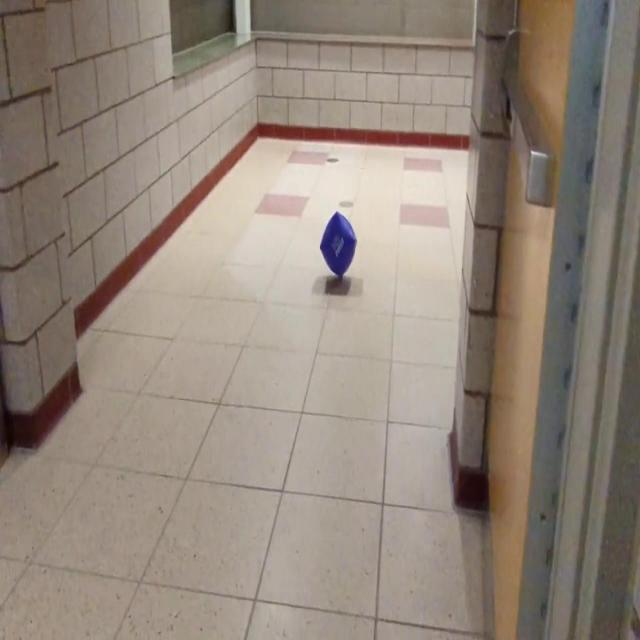frc_cube: (319, 212, 356, 274)
